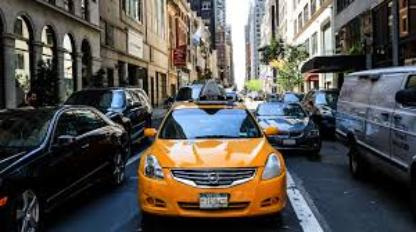car: (133, 98, 289, 222), (0, 98, 128, 232), (255, 91, 325, 162)
